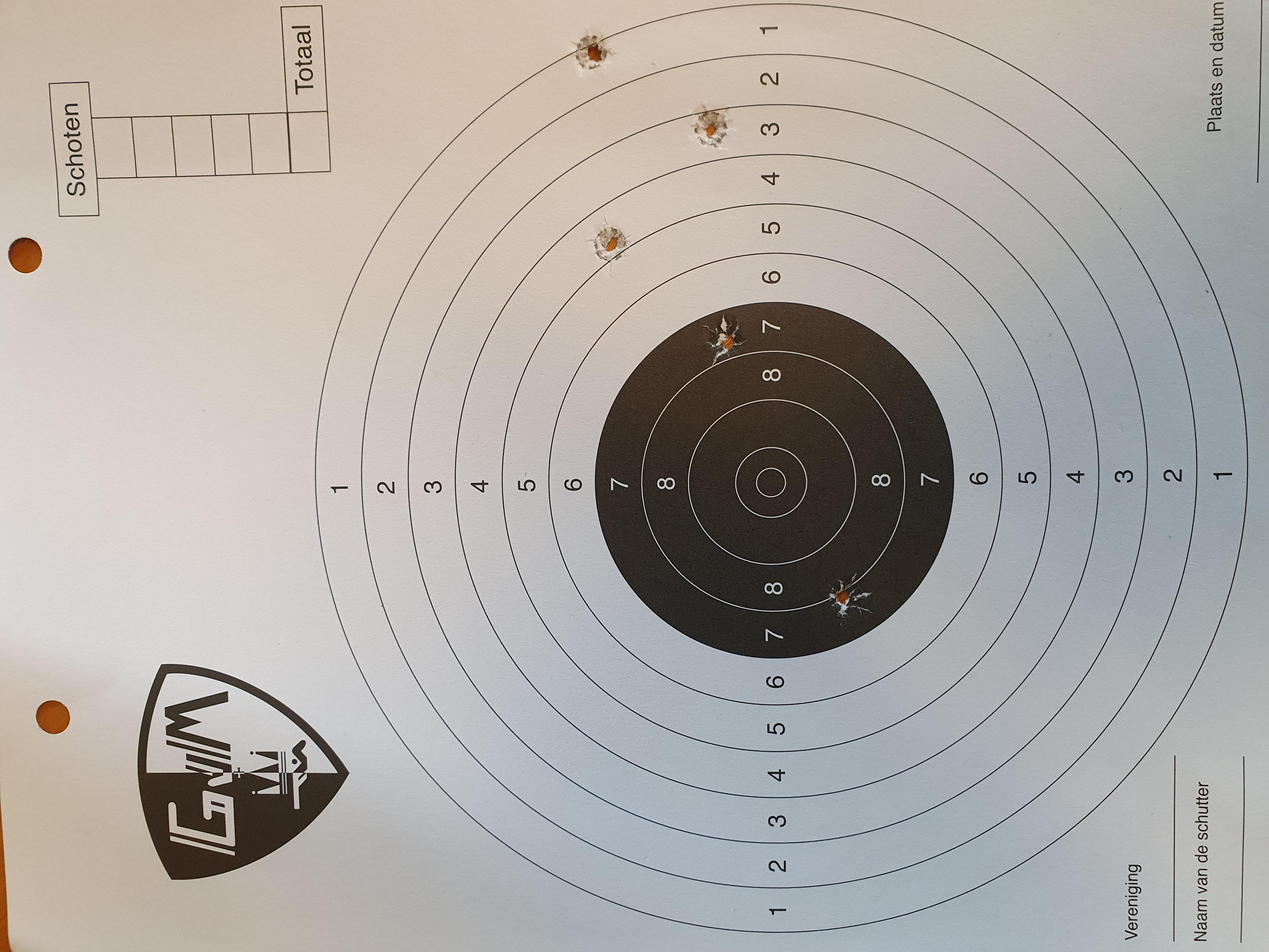hole: (780, 526, 850, 561), (1063, 517, 1135, 549), (440, 621, 507, 654), (909, 441, 977, 473), (1169, 429, 1227, 460)
